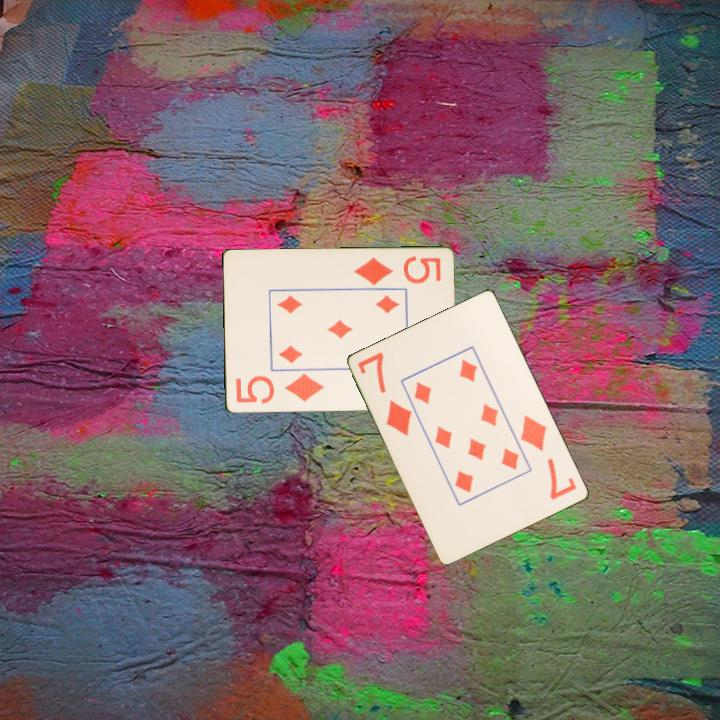5d: (232, 370, 327, 407), (350, 252, 444, 288)
7d: (517, 411, 580, 503), (354, 348, 415, 439)
